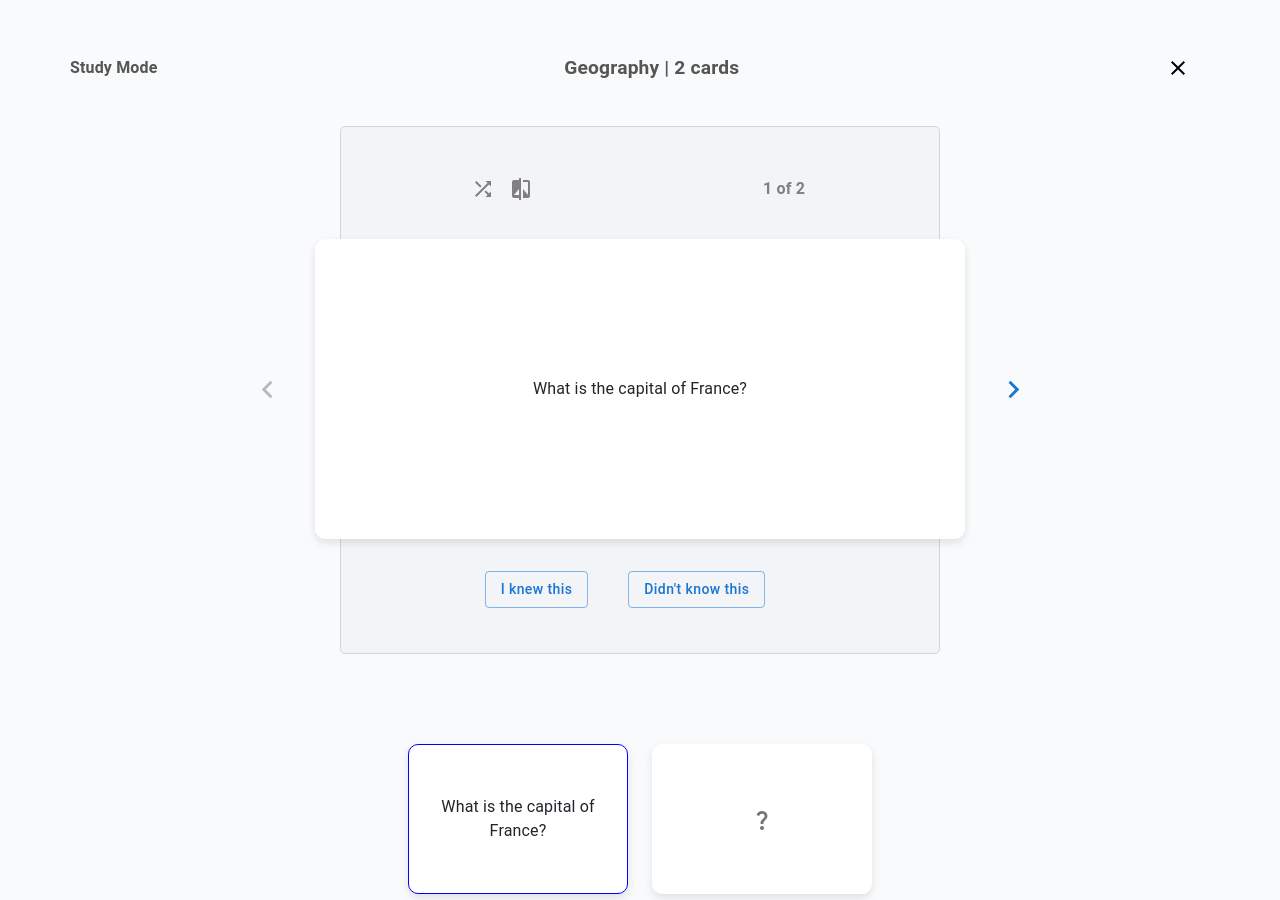
StudyMode › renders flashcards and handles responses
Expected: the text "Study Mode" is shown, top-left (70, 56), bottom-right (158, 80)
Expected: the text "Geography | 2 cards" is shown, top-left (564, 54), bottom-right (739, 82)
Click the button "I knew this": (536, 589) top-left (485, 571), bottom-right (588, 608)
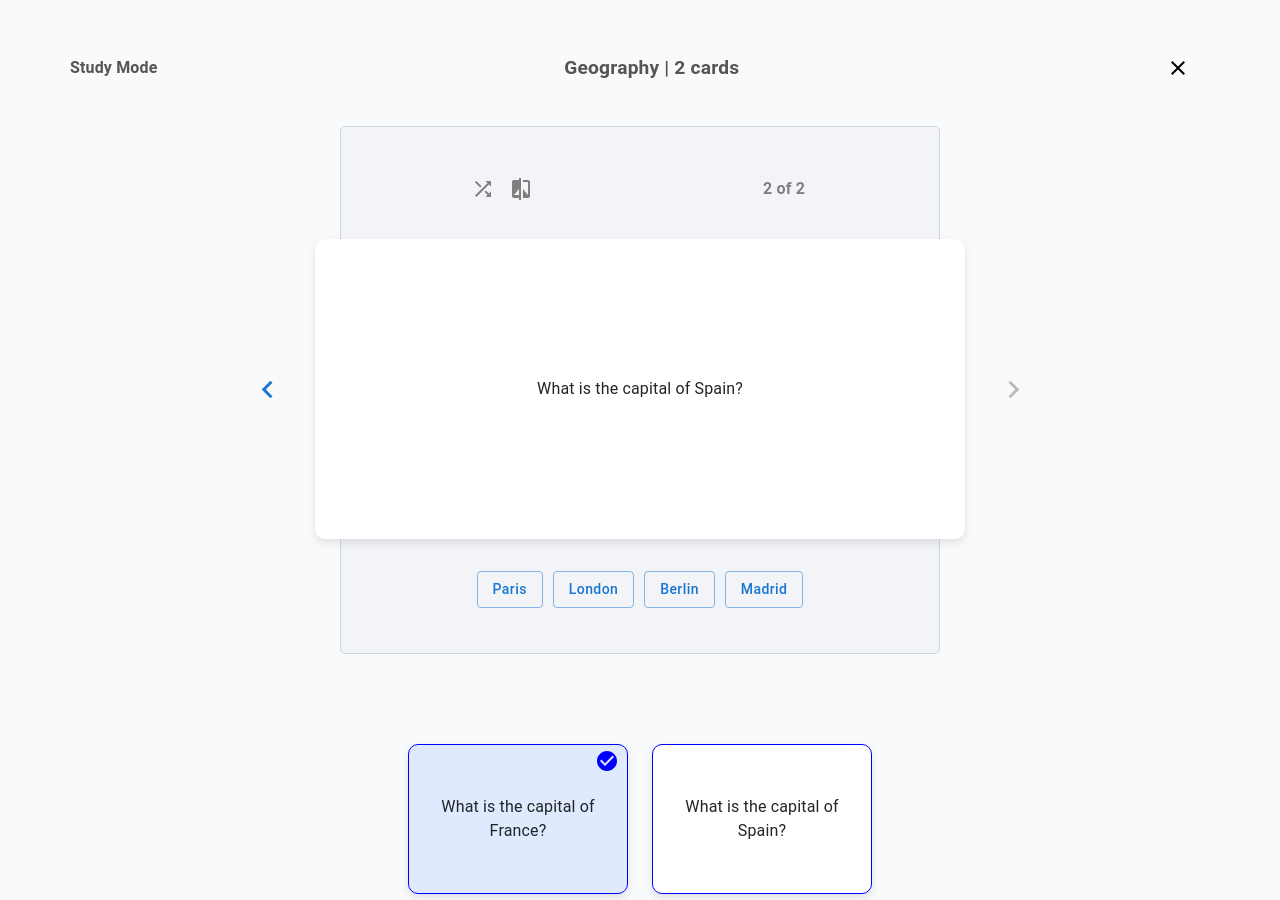
Result: the 1st text "What is the capital of Spain?" is shown at top-left (537, 377), bottom-right (743, 401)
